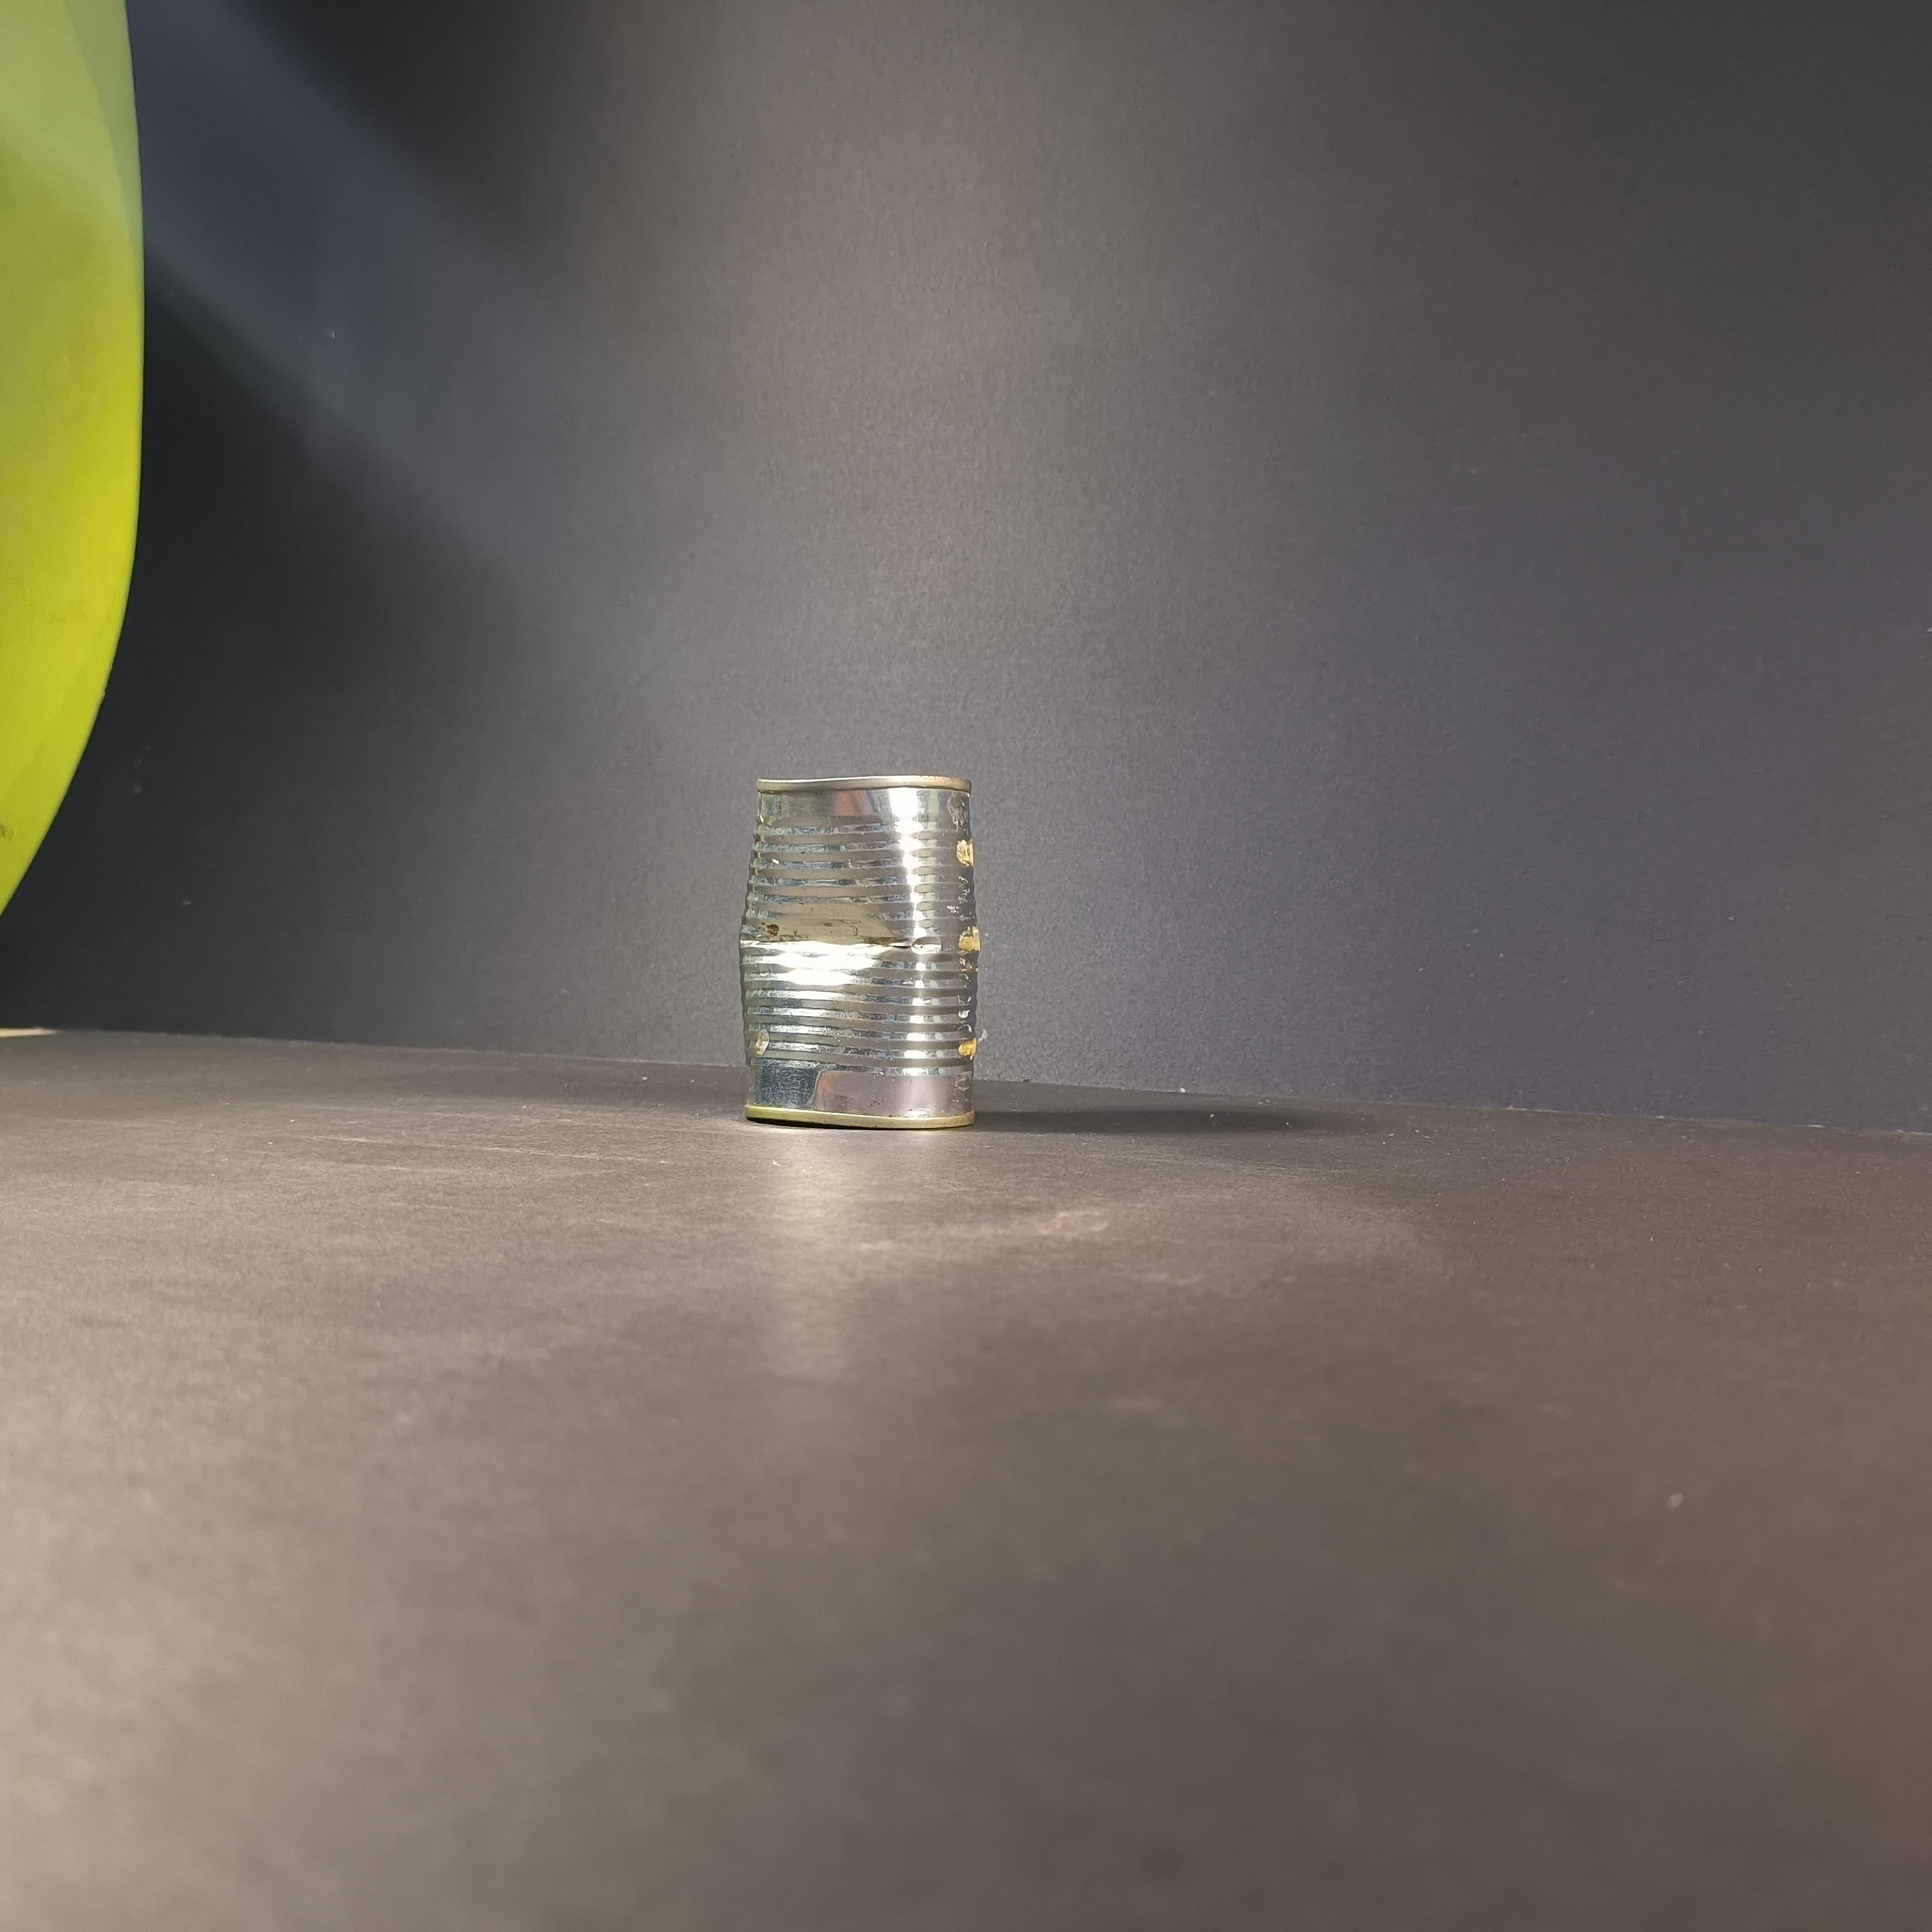Dented: (720, 732, 1005, 1166)
